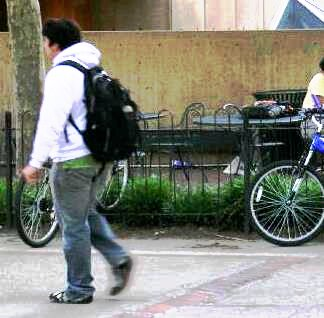person: (17, 17, 142, 291)
